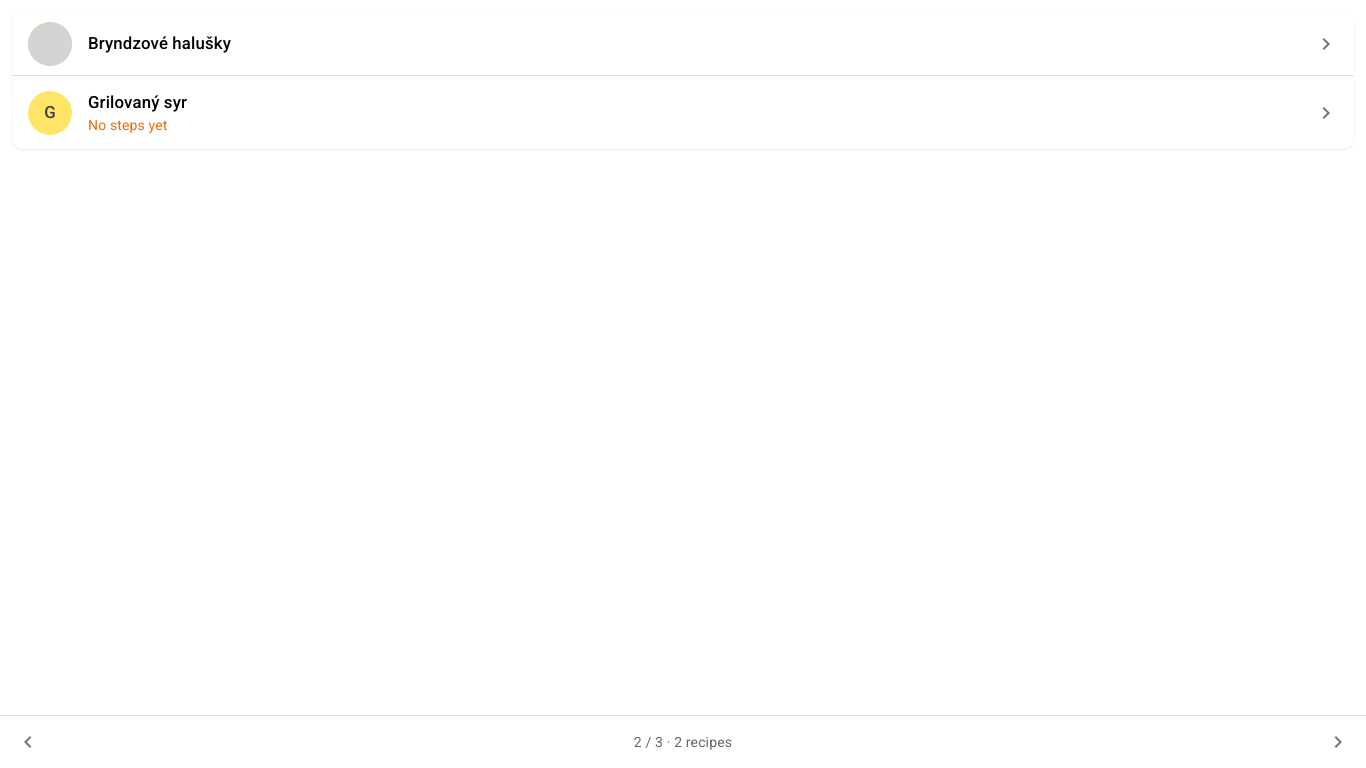
Test: CategoryPager › with a category › moves with the arrows too, for anyone who cannot swipe
What coordinates should you click on to do the following:
click the button named "Previous category: Dezerty"
I would click on:
 (28, 742)
Its box is left=8, top=722, right=48, bottom=762.
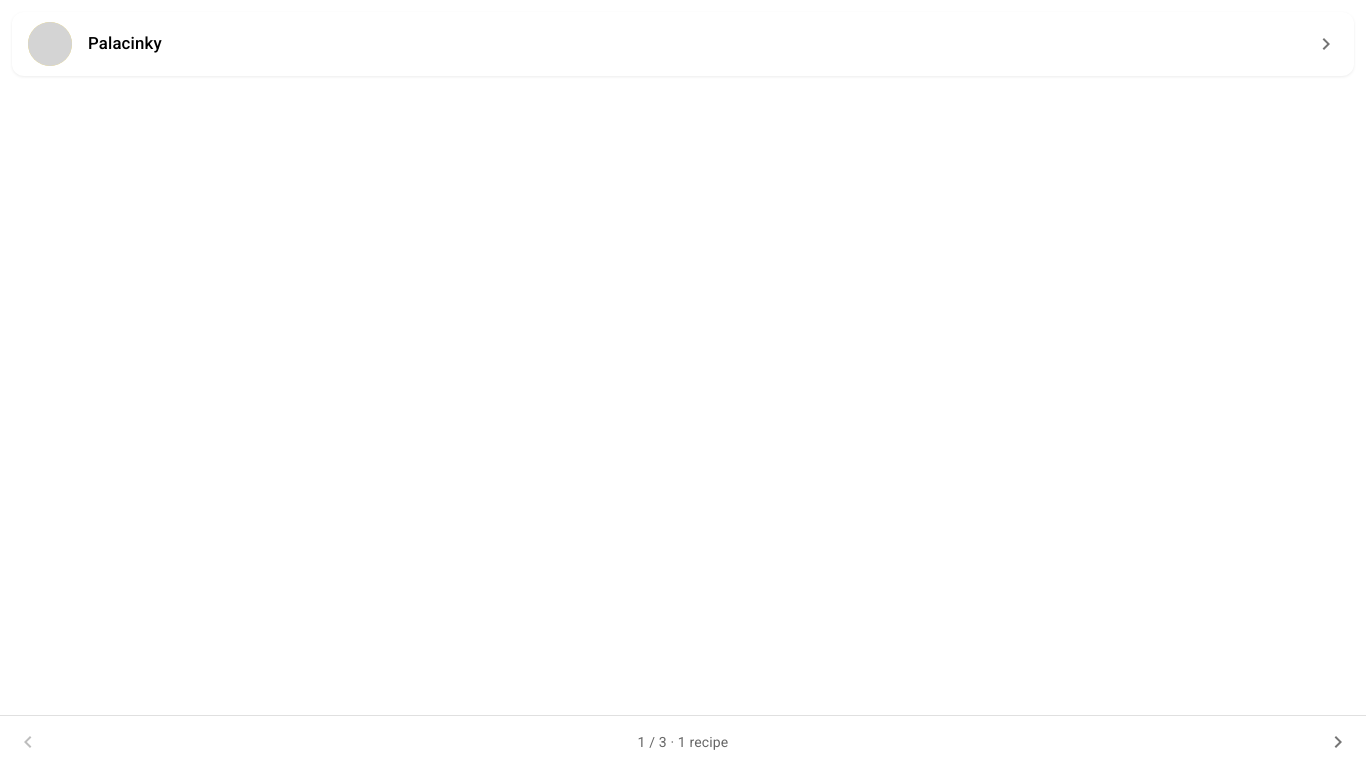
Check: the button named "No previous category" is disabled, box left=8, top=722, right=48, bottom=762
